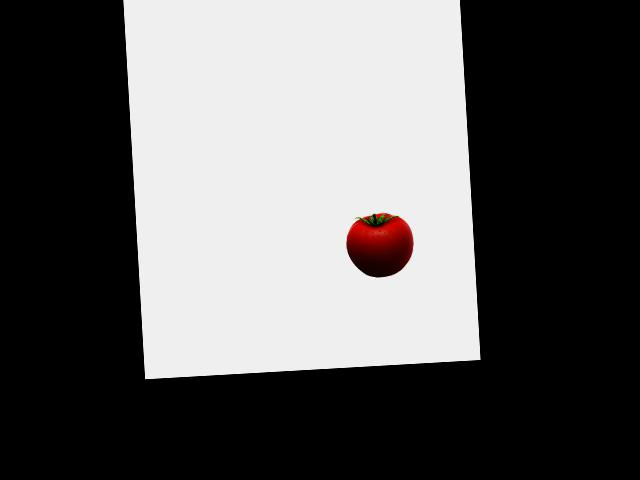tomato: (345, 212, 407, 279)
